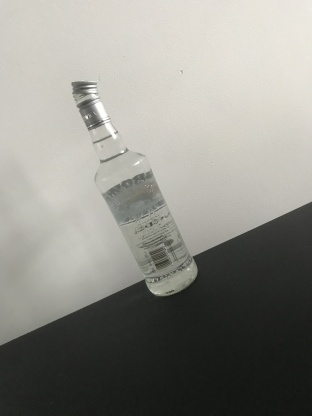nakretka: (69, 78, 111, 132)
